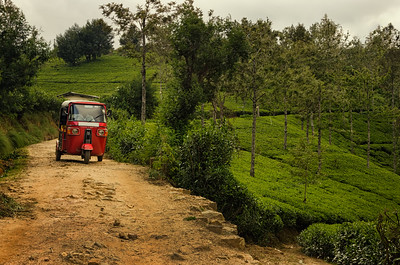threewheel: (54, 99, 113, 164)
